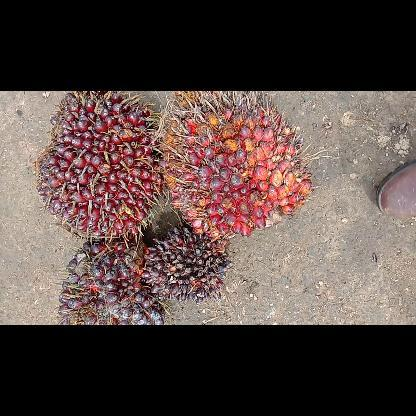Kurang masak: (33, 92, 163, 242), (55, 238, 167, 324)
TBS abnormal: (142, 224, 235, 302)
TBS masak: (156, 92, 315, 242)
